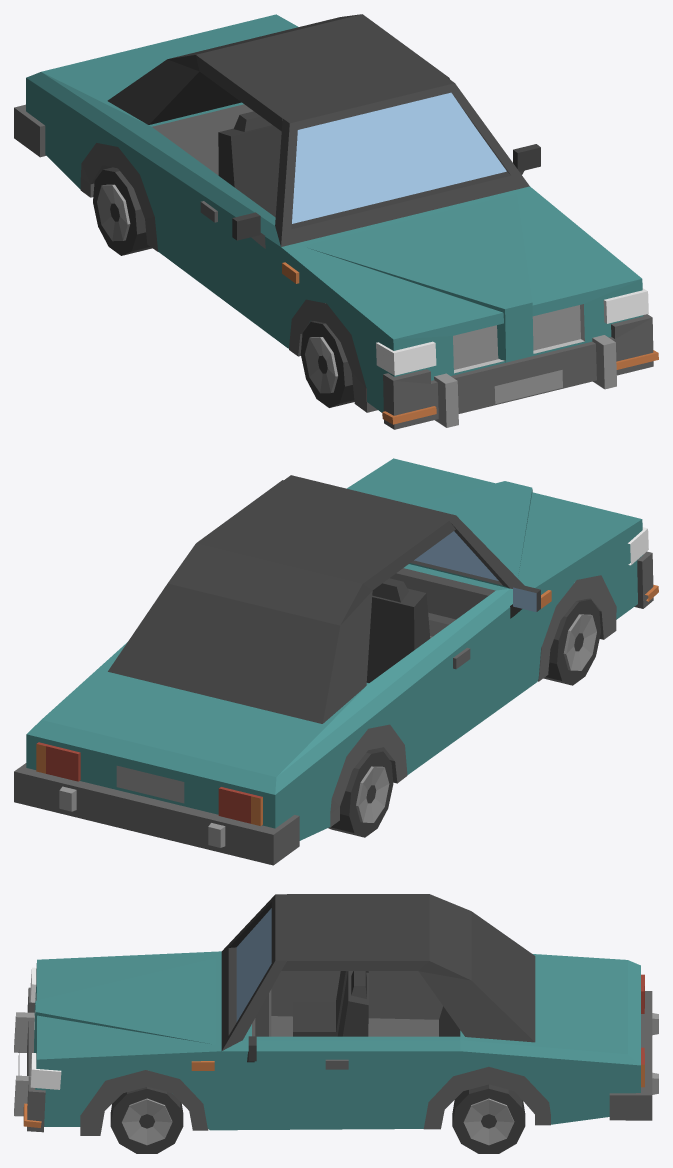
The model's file is transport_old_007.fbx.
3 views of the same model, one above another, from view 1: azimuth 30°, elevation 25°; view 2: azimuth 150°, elevation 25°; view 3: azimuth 270°, elevation 25° (orthographic). The views are drawn at different scales.
Parts seen in each view (by area): view 1: transport_old_007; view 2: transport_old_007; view 3: transport_old_007.
Part boxes in pixels (bbox=[...]): transport_old_007: bbox=[14, 14, 658, 429]; transport_old_007: bbox=[14, 458, 658, 865]; transport_old_007: bbox=[14, 894, 658, 1153].
Size of the model in its own units: 148 by 98.78 by 330.
